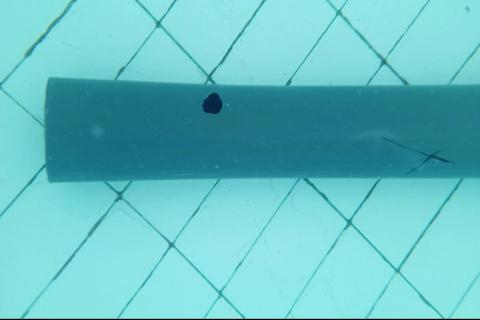kebocoran: (201, 92, 223, 115)
keretakan: (380, 134, 454, 175)
